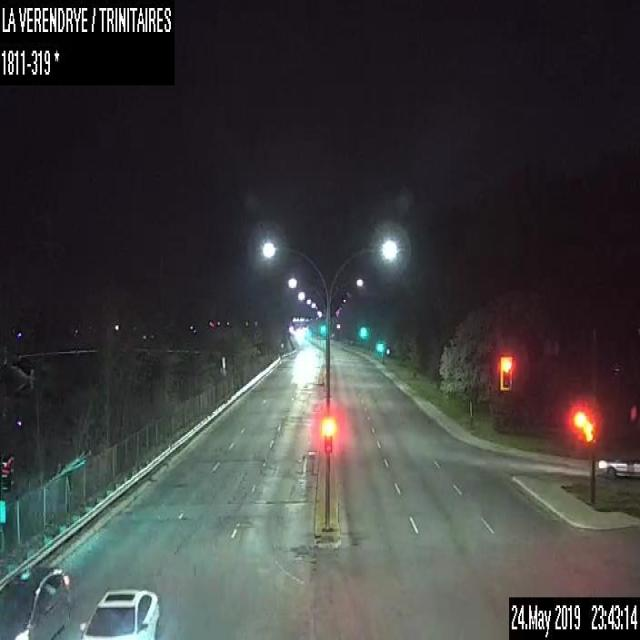vehicle: (0, 562, 75, 638), (78, 584, 160, 639), (596, 448, 639, 480)
